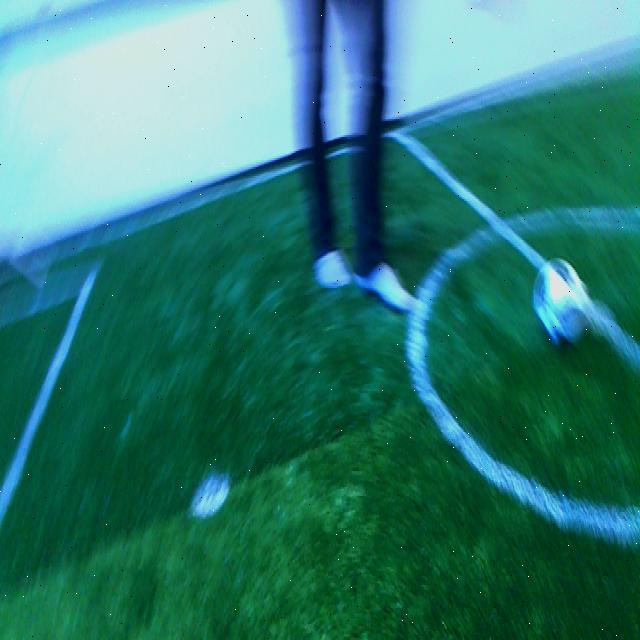ball: (537, 254, 590, 350)
